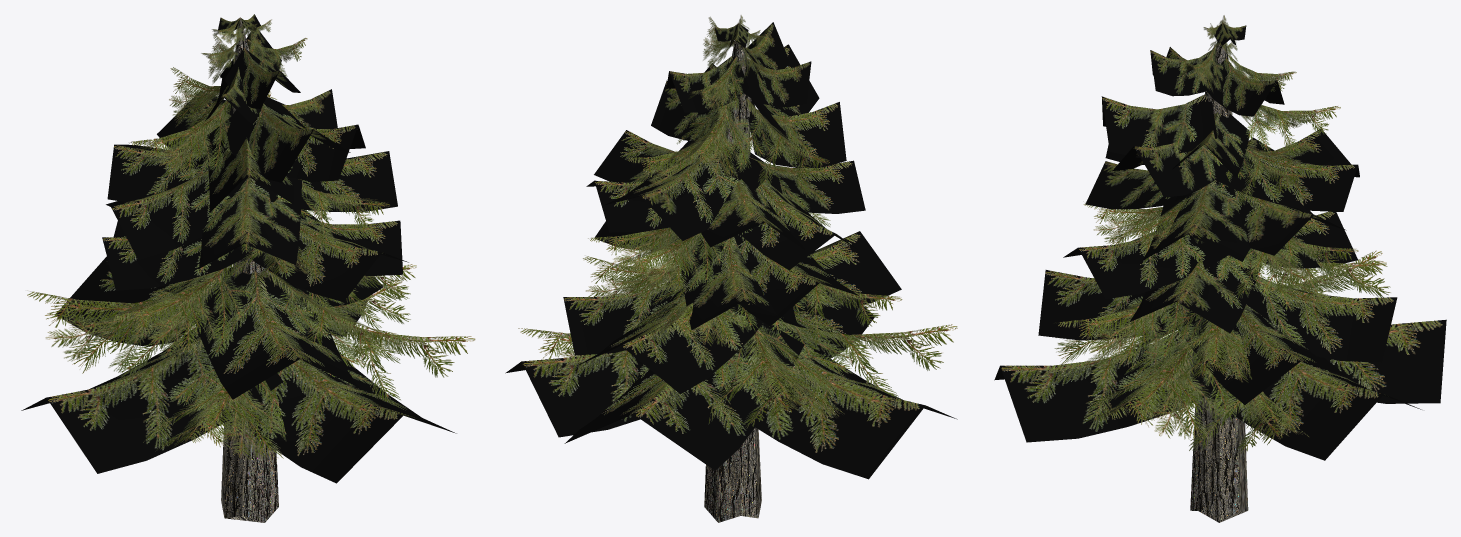
The model's file is pinetree.gltf.
The picture shows the model from 3 angles, left to right: view 1: azimuth 30°, elevation 25°; view 2: azimuth 150°, elevation 25°; view 3: azimuth 270°, elevation 25°; orthographic projection. The views are drawn at different scales.
Parts seen in each view (by area): view 1: branch1.047, Cube; view 2: branch1.047, Cube; view 3: branch1.047, Cube.
Boxes of the visible parts, bbox=[...] form: branch1.047: bbox=[21, 14, 475, 483]; Cube: bbox=[221, 18, 278, 522]; branch1.047: bbox=[505, 15, 957, 479]; Cube: bbox=[704, 23, 761, 522]; branch1.047: bbox=[994, 15, 1446, 460]; Cube: bbox=[1190, 23, 1248, 522].
Size of the model in its own units: 11.89 by 14.3 by 12.1.
Materials: 3 (3 with a texture image).
